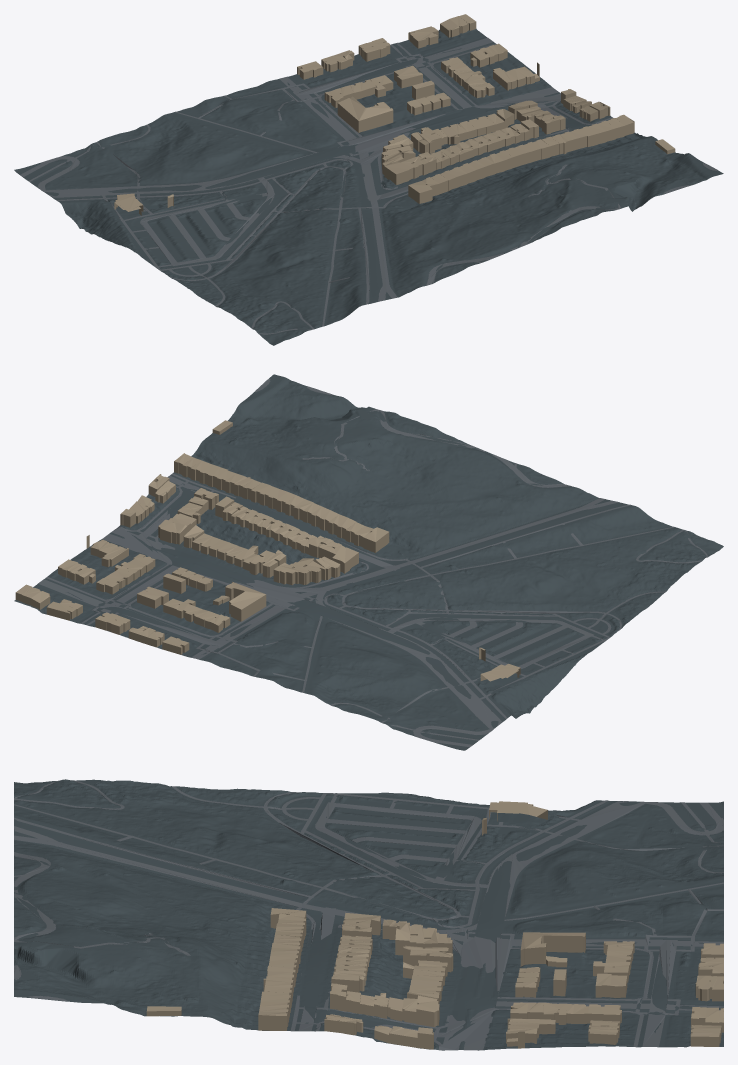
File: epsg26910-1414-10889.lod0.glb
3 views of the same model, one above another, from view 1: azimuth 30°, elevation 25°; view 2: azimuth 150°, elevation 25°; view 3: azimuth 270°, elevation 25° (orthographic). The views are drawn at different scales.
Parts seen in each view (by area): view 1: epsg26910-1414-10889-lod0; view 2: epsg26910-1414-10889-lod0; view 3: epsg26910-1414-10889-lod0.
Boxes of the visible parts, x1=… form: epsg26910-1414-10889-lod0: x1=14, y1=14, x2=723, y2=345; epsg26910-1414-10889-lod0: x1=14, y1=374, x2=723, y2=750; epsg26910-1414-10889-lod0: x1=14, y1=779, x2=723, y2=1050.
Bounding box in the file's own units: 384 × 71.16 × 384.
